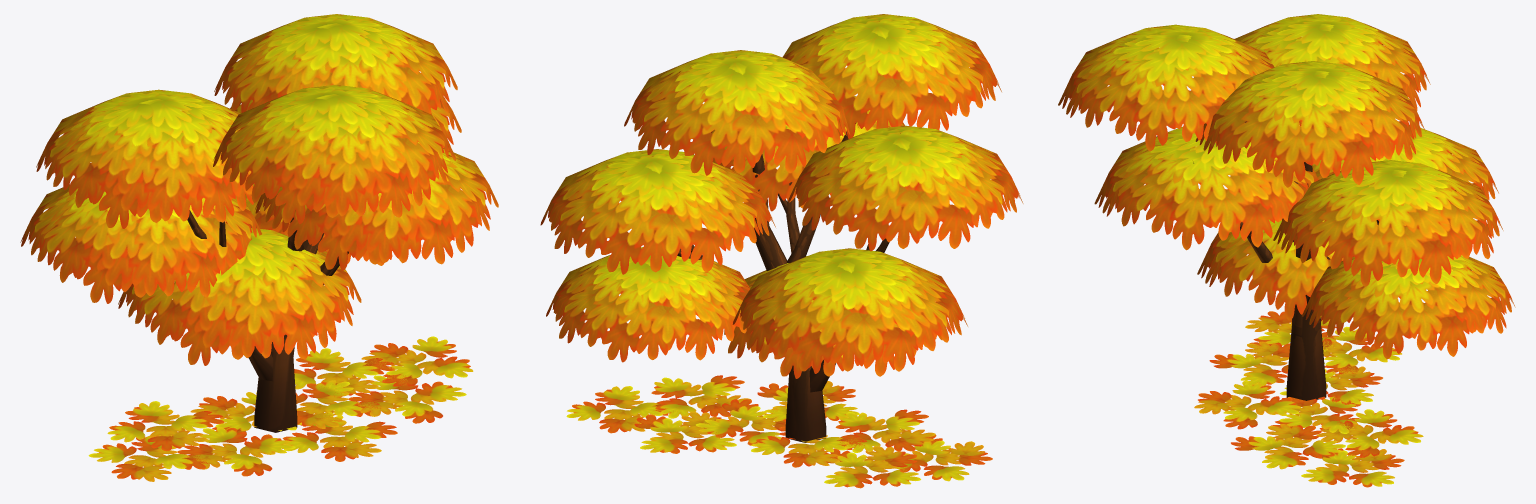
File: Mapple_tree.FBX
3 views of the same model, side by side, from view 1: azimuth 30°, elevation 25°; view 2: azimuth 150°, elevation 25°; view 3: azimuth 270°, elevation 25° (orthographic). The views are drawn at different scales.
Visible parts, largest first — view 1: Maple_Tree; view 2: Maple_Tree; view 3: Maple_Tree.
Part boxes in pixels (x1,y1,x2,y2): Maple_Tree: [20, 14, 498, 481]; Maple_Tree: [540, 14, 1023, 488]; Maple_Tree: [1058, 14, 1515, 487].
Size of the model in its own units: 365 by 298 by 358.
